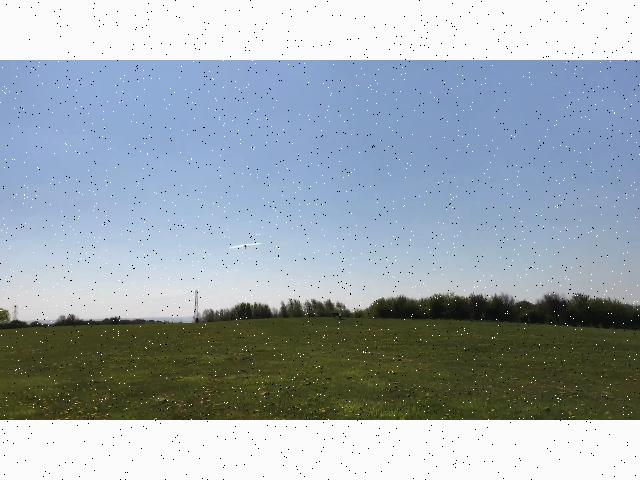Anti-Drone: (216, 225, 274, 261)
